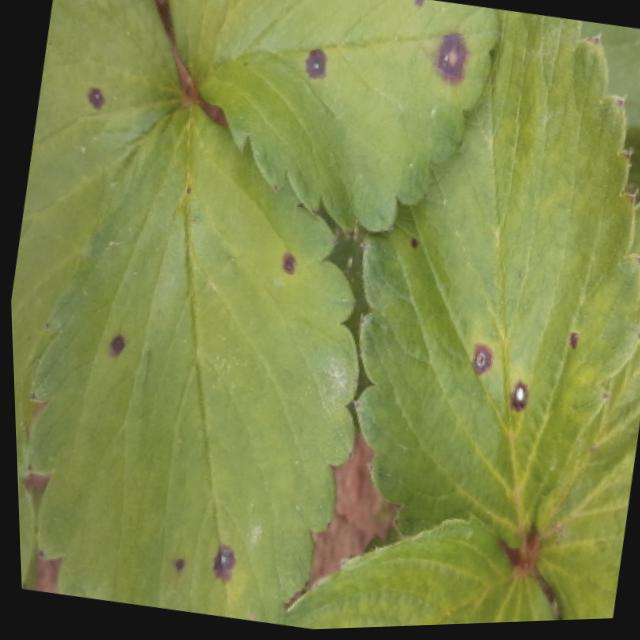Leaf Spot: (23, 88, 356, 627), (350, 11, 640, 552), (8, 0, 186, 492), (165, 0, 500, 236), (516, 335, 640, 624), (282, 521, 552, 632)
